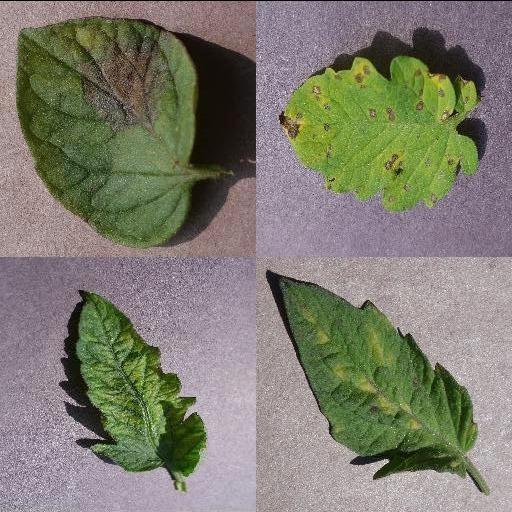Late Blight: (14, 15, 200, 249)
Leaf Mold: (277, 274, 479, 478)
Mosaic Virus: (76, 290, 206, 476)
Septoria: (278, 55, 480, 211)
